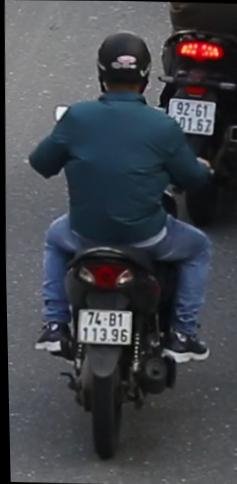LP: (75, 304, 134, 348)
helmet: (93, 27, 154, 103)
